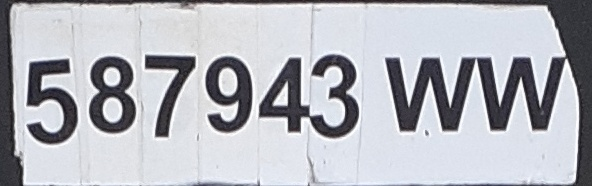3: (309, 51, 360, 140)
4: (256, 56, 311, 135)
5: (26, 56, 80, 146)
7: (142, 53, 199, 138)
8: (86, 56, 138, 136)
9: (203, 54, 254, 135)
w: (380, 51, 477, 136), (475, 52, 570, 135)
